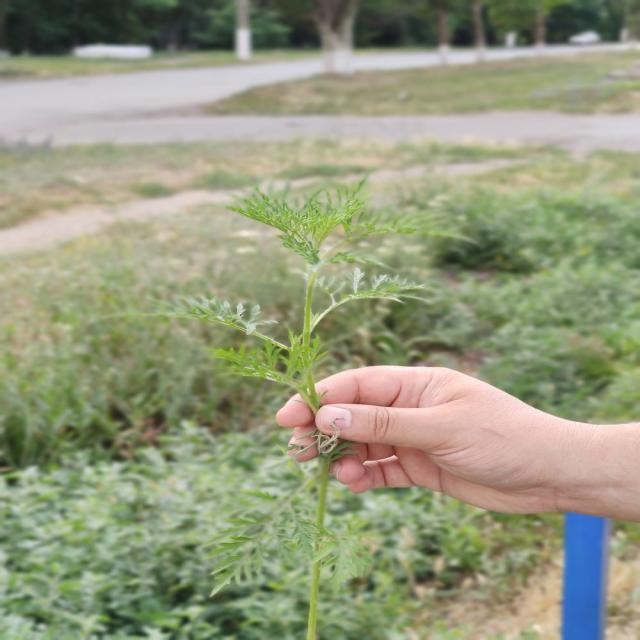ambrosia: (178, 176, 419, 464)
